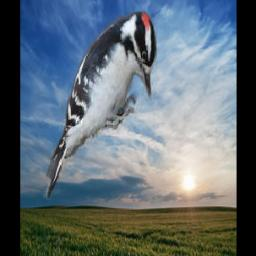Woodpecker: (44, 8, 158, 202)
